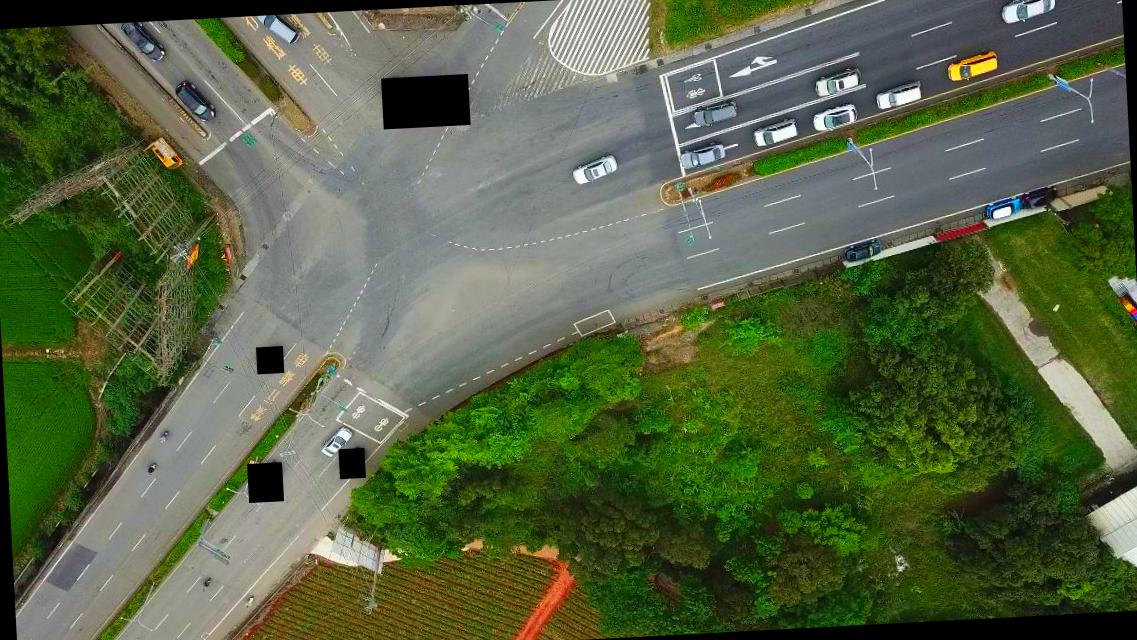vehicle: (119, 21, 166, 65), (173, 80, 215, 124), (946, 49, 998, 83), (999, 0, 1057, 29), (814, 66, 862, 96), (570, 156, 618, 186), (254, 14, 299, 45), (874, 82, 922, 110), (751, 119, 797, 147), (692, 99, 738, 127), (678, 142, 724, 169), (812, 104, 856, 132), (318, 426, 353, 459), (842, 238, 882, 264), (151, 141, 183, 173), (1022, 185, 1058, 210), (986, 197, 1022, 220)
